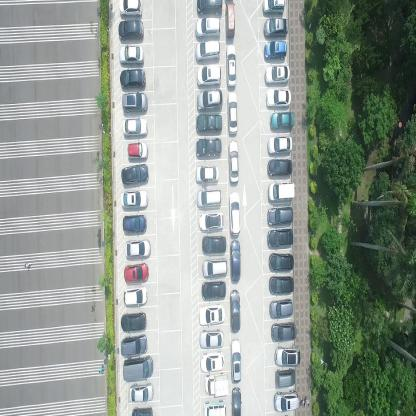car: (123, 354, 153, 383), (204, 370, 230, 396), (266, 180, 296, 202), (199, 301, 226, 325), (273, 388, 298, 412), (198, 209, 224, 232), (120, 309, 146, 332), (263, 15, 289, 38), (196, 89, 223, 111), (117, 20, 144, 42), (119, 68, 146, 90), (120, 334, 147, 356), (194, 16, 219, 39), (275, 344, 300, 367), (202, 256, 228, 278), (124, 261, 150, 283), (264, 64, 290, 86), (121, 92, 148, 113), (121, 163, 148, 184), (266, 228, 293, 249), (268, 297, 292, 320), (196, 64, 221, 86), (195, 40, 220, 62), (199, 350, 224, 372), (267, 204, 293, 225), (125, 238, 151, 259), (270, 320, 296, 341), (128, 383, 154, 404), (228, 190, 240, 235), (266, 158, 293, 178), (120, 190, 148, 209), (202, 233, 226, 255), (226, 90, 238, 134), (229, 338, 241, 382), (199, 328, 224, 349), (201, 280, 226, 301), (119, 45, 144, 66), (196, 138, 222, 158), (122, 117, 148, 137), (267, 137, 293, 157), (268, 252, 294, 272), (230, 288, 241, 334), (195, 114, 223, 132), (230, 238, 241, 283), (225, 42, 236, 87), (265, 88, 291, 107), (195, 164, 219, 184), (124, 286, 148, 306), (270, 112, 294, 132), (122, 216, 147, 235), (196, 188, 222, 206), (264, 40, 287, 60), (228, 138, 238, 183), (203, 398, 228, 416), (197, 0, 223, 17), (274, 366, 295, 387), (118, 0, 142, 18), (269, 276, 293, 294), (224, 0, 235, 38), (127, 142, 149, 160), (262, 0, 284, 15), (231, 386, 242, 416), (132, 405, 154, 415)
